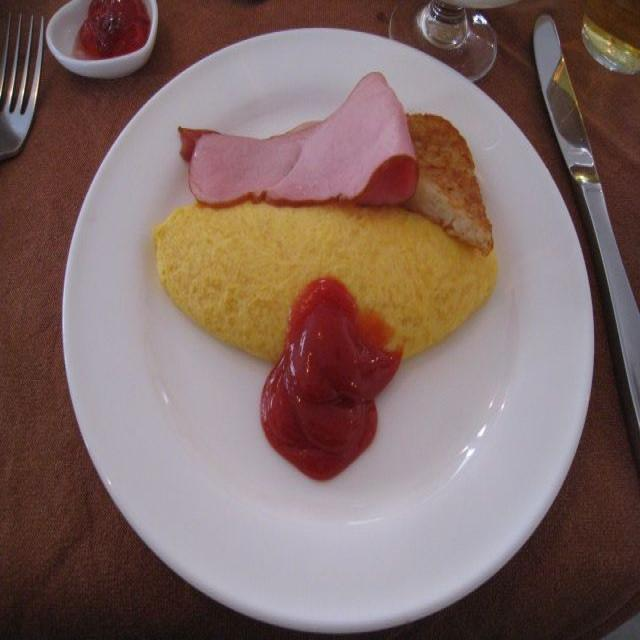Omelet: (158, 180, 500, 364)
